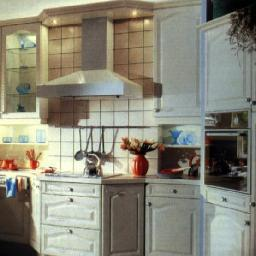Electrodomestico: (204, 111, 254, 195)
